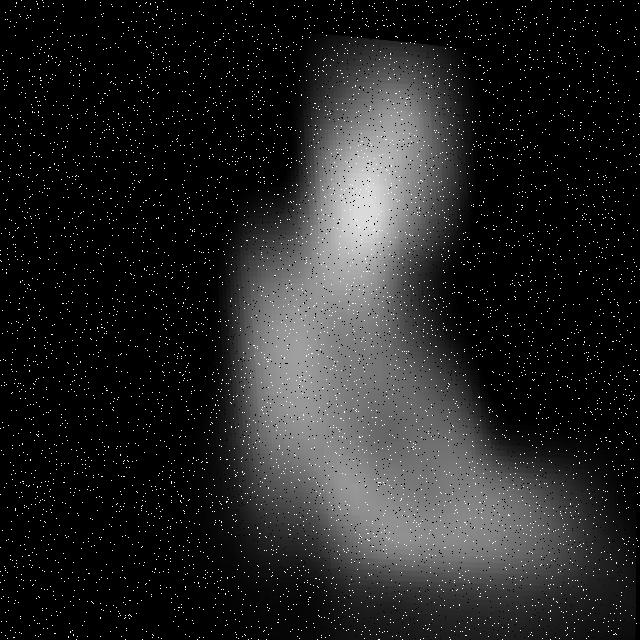person: (195, 17, 540, 640)
